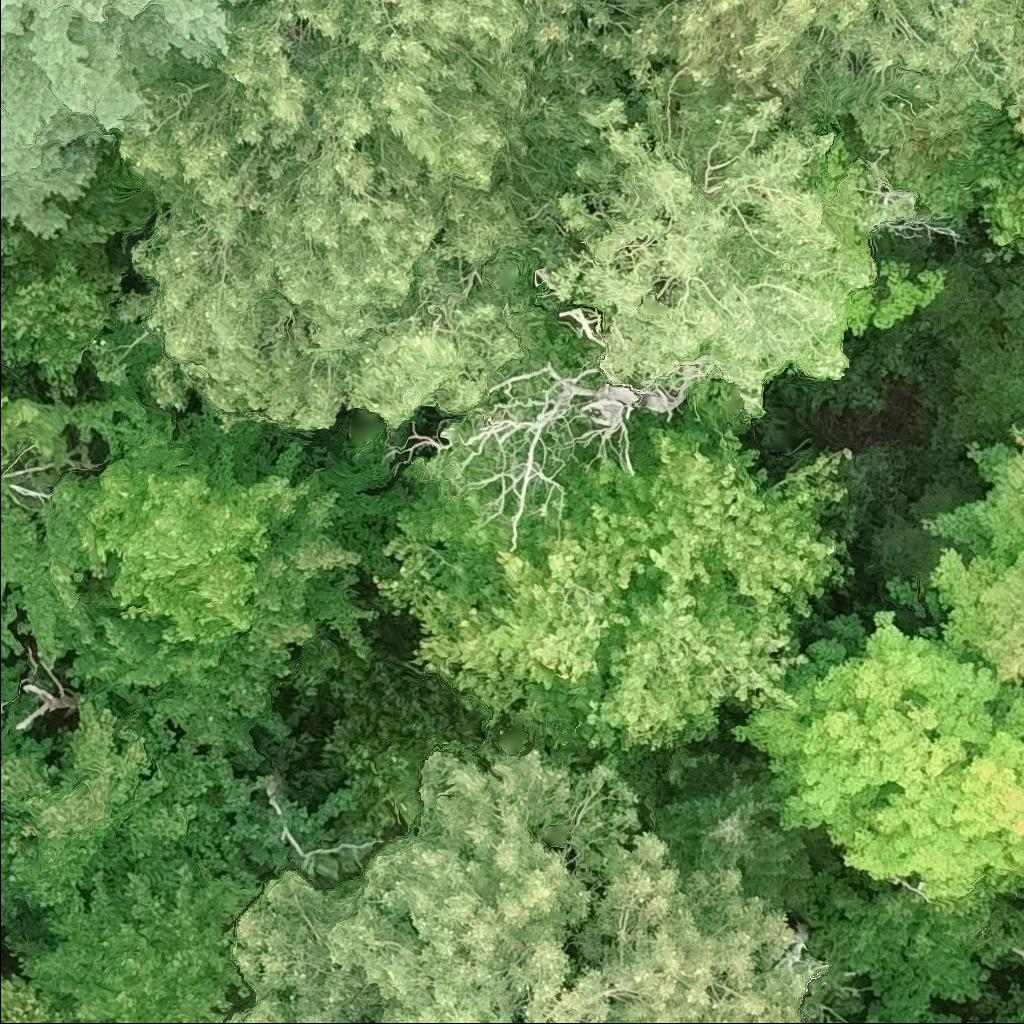crown: (222, 742, 826, 1023), (641, 757, 834, 913), (0, 971, 81, 1023)
